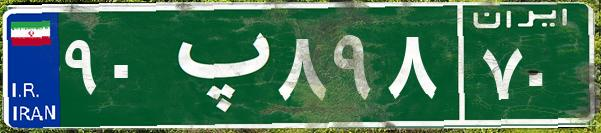0: (110, 28, 158, 105), (525, 38, 570, 115)
7: (475, 38, 525, 113)
8: (385, 28, 445, 110), (273, 28, 330, 110)
9: (330, 28, 385, 110), (57, 26, 110, 107)
پ: (158, 15, 273, 115)
